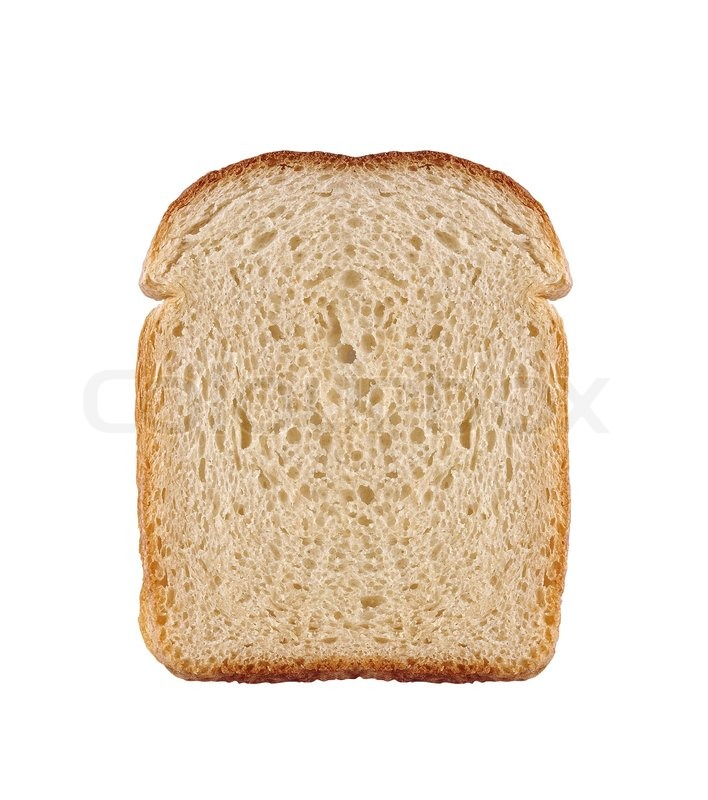slice of bread: (141, 151, 566, 679)
